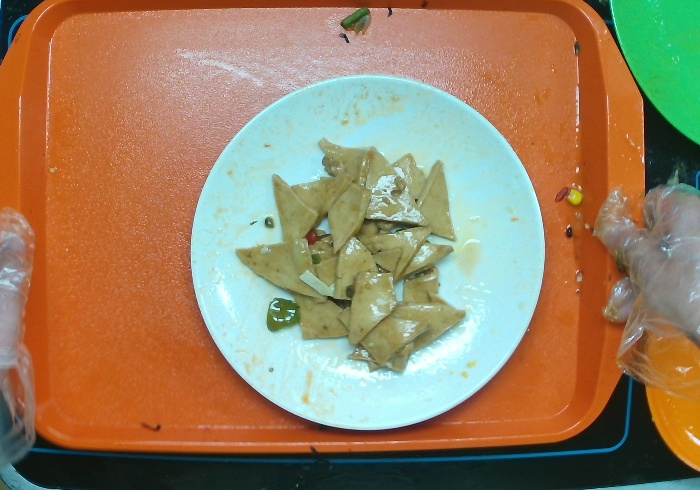HZYJPL-Bai_Se_Yuan_Pan: (178, 62, 552, 443)
